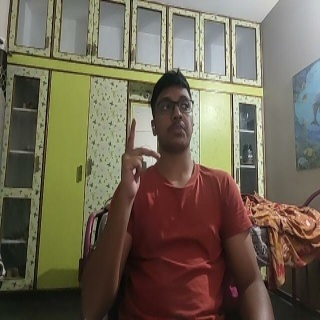Face: (151, 69, 196, 155)
Okay: (117, 117, 162, 201)
